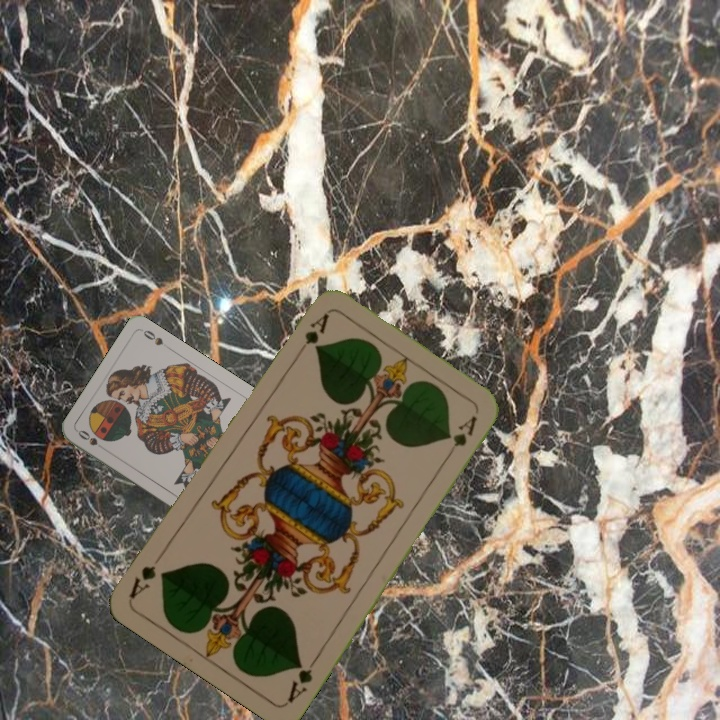GA: (283, 652, 321, 706), (300, 309, 332, 348)
SO: (74, 426, 110, 454)
